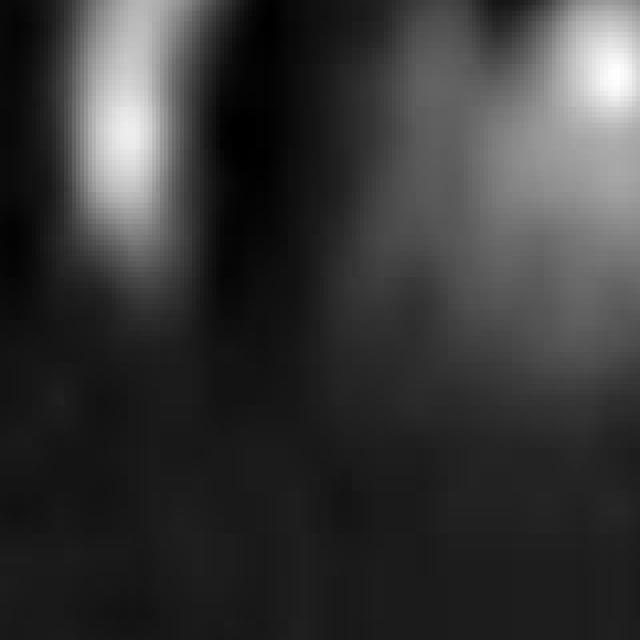person: (461, 1, 640, 428), (337, 1, 521, 406), (1, 1, 229, 321)
